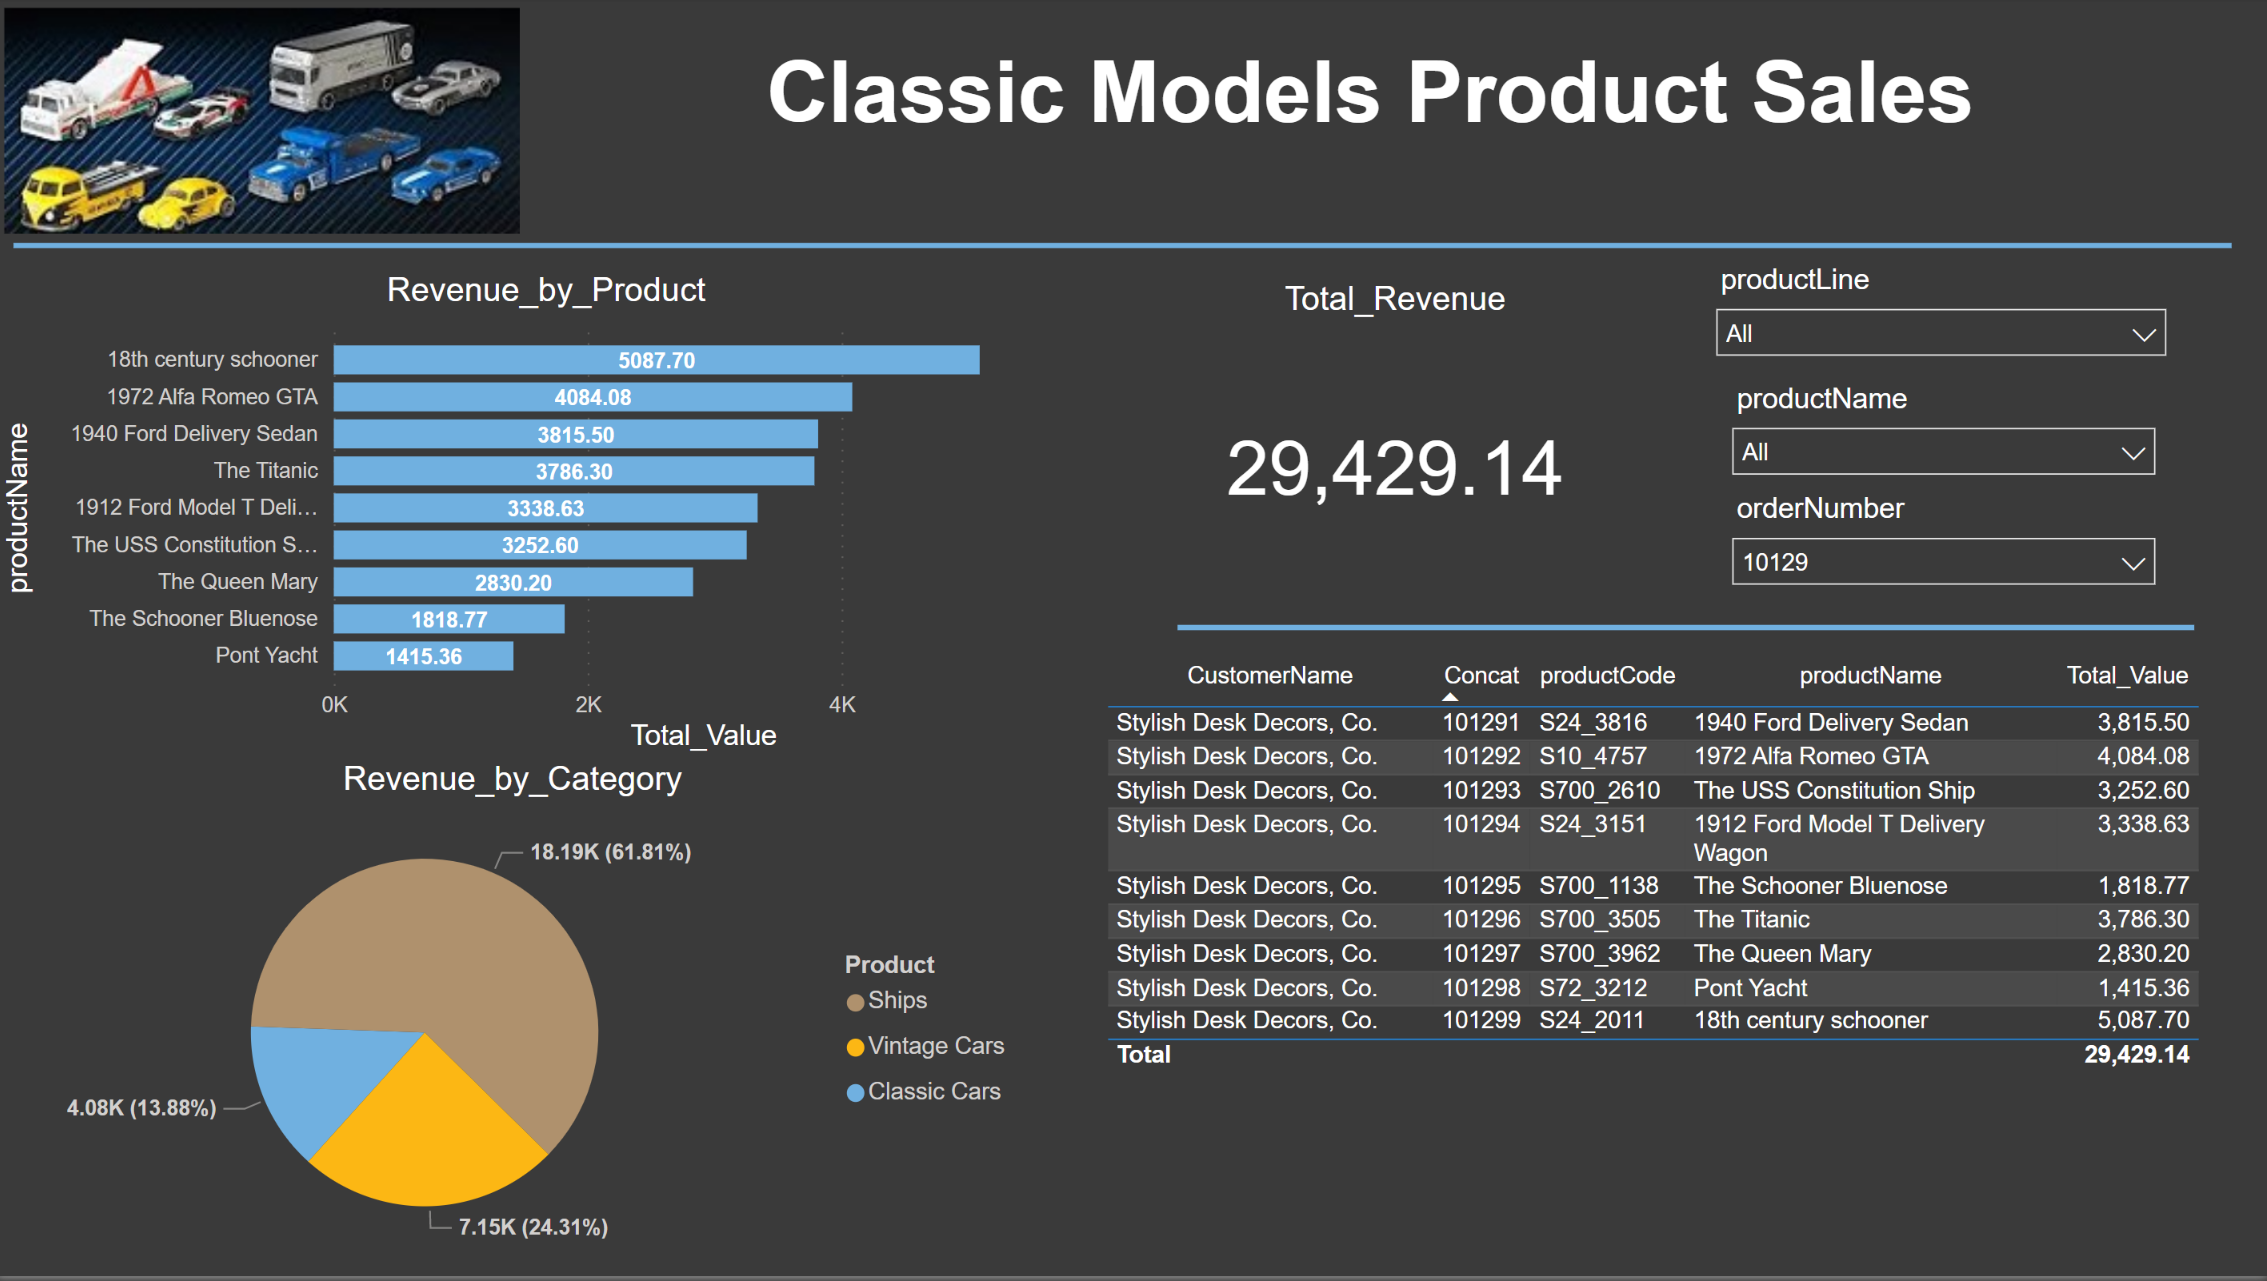

Layout of this report page (visuals, bound fields, positions):
{"tool":"powerbi","page":{"name":"Scenario2","canvas":[1280,720],"ordinal":1},"visuals":[{"type":"textbox","box":[300.4,20.9,948.2,88.3],"z":0},{"type":"image","box":[0,0,300.4,137.4],"z":1000},{"type":"basicShape","box":[0,125,1269.5,28.8],"z":2000},{"type":"basicShape","box":[655.7,318,592.9,72.6],"z":3000},{"type":"clusteredBarChart","title":"Revenue_by_Product","fields":{"Category":["Order_Details.productName"],"Y":["Sum(Order_Details.Total_Value)"]},"box":[0,153.8,620.4,275.5],"z":4000},{"type":"pieChart","title":"Revenue_by_Category","fields":{"Y":["Sum(Order_Details.Total_Value)"],"Category":["Order_Details.productLine"]},"box":[0,429.3,582.4,286.6],"z":5000},{"type":"slicer","fields":{"Values":["Products.productLine"]},"box":[958.7,144.6,274.2,58.9],"z":6000},{"type":"slicer","fields":{"Values":["Products.productName"]},"box":[967.9,212,259.1,66.7],"z":7000},{"type":"tableEx","fields":{"Values":["Order_Details.CustomerName","Order_Details.Concat","Order_Details.productCode","Order_Details.productName","Sum(Order_Details.Total_Value)"]},"box":[620.4,367.8,659.6,348.1],"z":8000},{"type":"card","title":"Total_Revenue","fields":{"Values":["Sum(Order_Details.Total_Value)"]},"box":[644.6,159,287.9,186.5],"z":9000},{"type":"slicer","fields":{"Values":["Order_Details.orderNumber"]},"box":[967.9,273.5,259.1,59.6],"z":10000}]}

Visuals, with their boxes in screenshot pixels (x1, y1, x2, y2), scaled from the page's 1280x720 canvas onto the 2267x1281 screenshot:
textbox: 532, 37, 2211, 194
image: 0, 0, 532, 244
basicShape: 0, 222, 2248, 274
basicShape: 1161, 566, 2211, 695
"Revenue_by_Product" clusteredBarChart: 0, 274, 1099, 764
"Revenue_by_Category" pieChart: 0, 764, 1031, 1274
slicer - Products.productLine: 1698, 257, 2184, 362
slicer - Products.productName: 1714, 377, 2173, 496
tableEx - Order_Details.CustomerName x Order_Details.Concat: 1099, 654, 2266, 1274
"Total_Revenue" card: 1142, 283, 1652, 615
slicer - Order_Details.orderNumber: 1714, 487, 2173, 593
